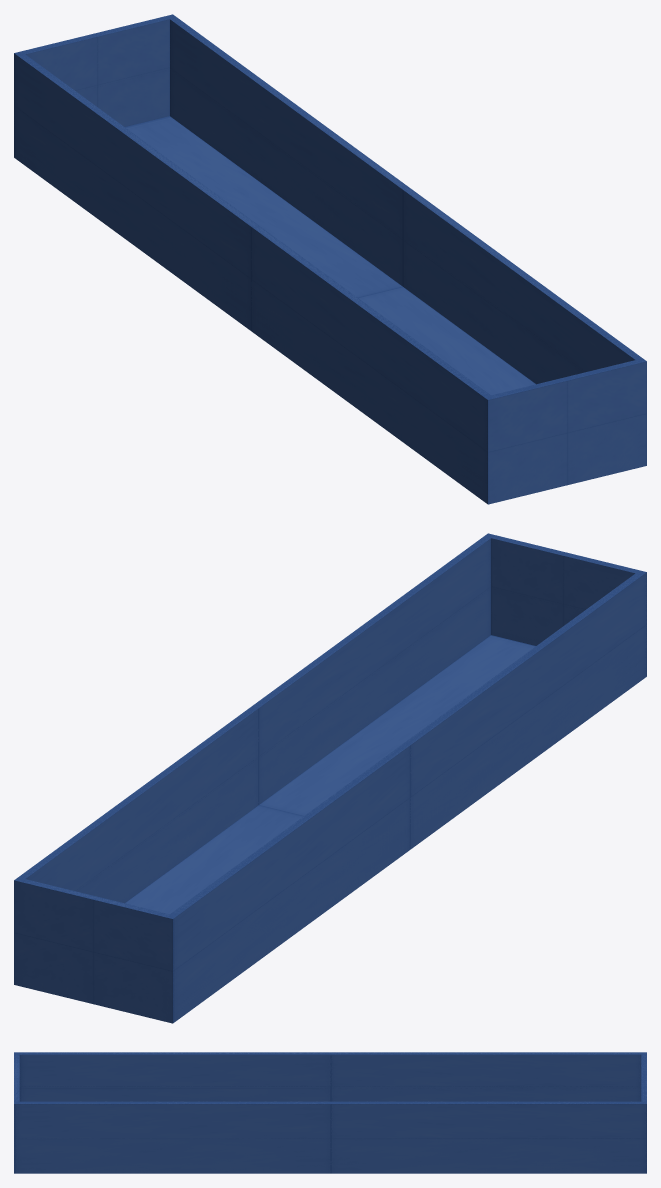
Rendered from qingyechi.obj.
3 views of the same model, one above another, from view 1: azimuth 30°, elevation 25°; view 2: azimuth 150°, elevation 25°; view 3: azimuth 270°, elevation 25° (orthographic). The views are drawn at different scales.
Visible parts, largest first — view 1: a; view 2: a; view 3: a.
Part boxes in pixels (x1,y1,x2,y2): a: (14,14,646,504); a: (14,533,646,1023); a: (14,1052,646,1173).
Bounding box in the file's own units: 1274 × 801 × 6584.
1 material, 1 textured.
